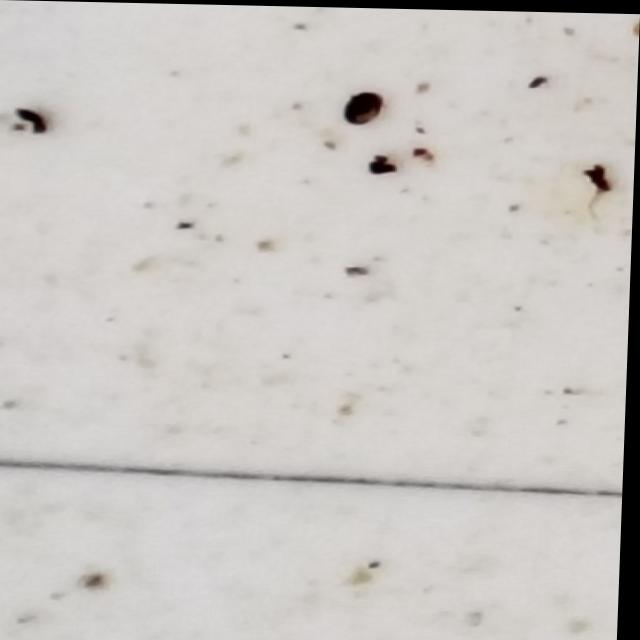varroa: (344, 86, 386, 127)
